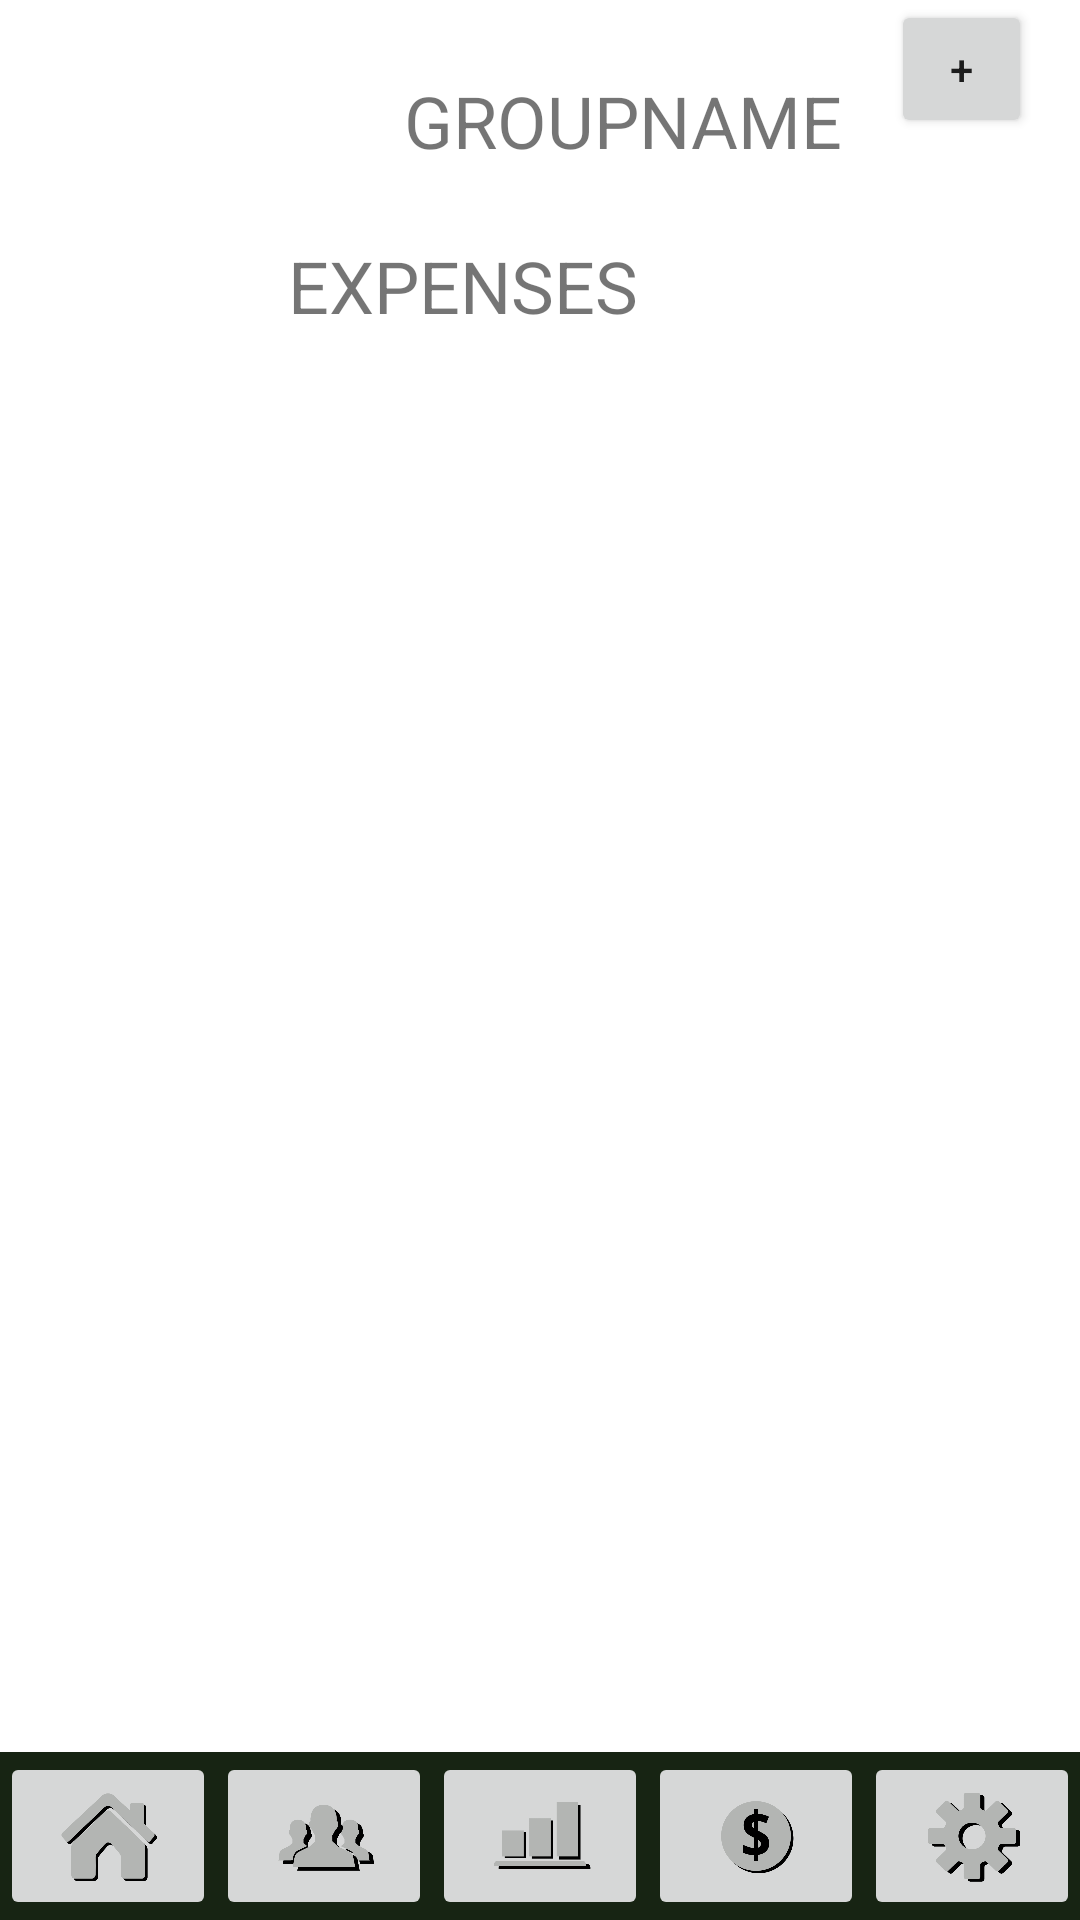

Icons on this 1080*1920 Android screen, each with its box as (x1=x1, y1=y1, x2=x2, y2=y2):
expensebutton: (x1=660, y1=1770, x2=852, y2=1902)
groupbutton: (x1=228, y1=1770, x2=420, y2=1902)
homebutton: (x1=12, y1=1770, x2=204, y2=1902)
reportbutton: (x1=444, y1=1770, x2=636, y2=1902)
settingsbutton: (x1=876, y1=1770, x2=1068, y2=1902)
